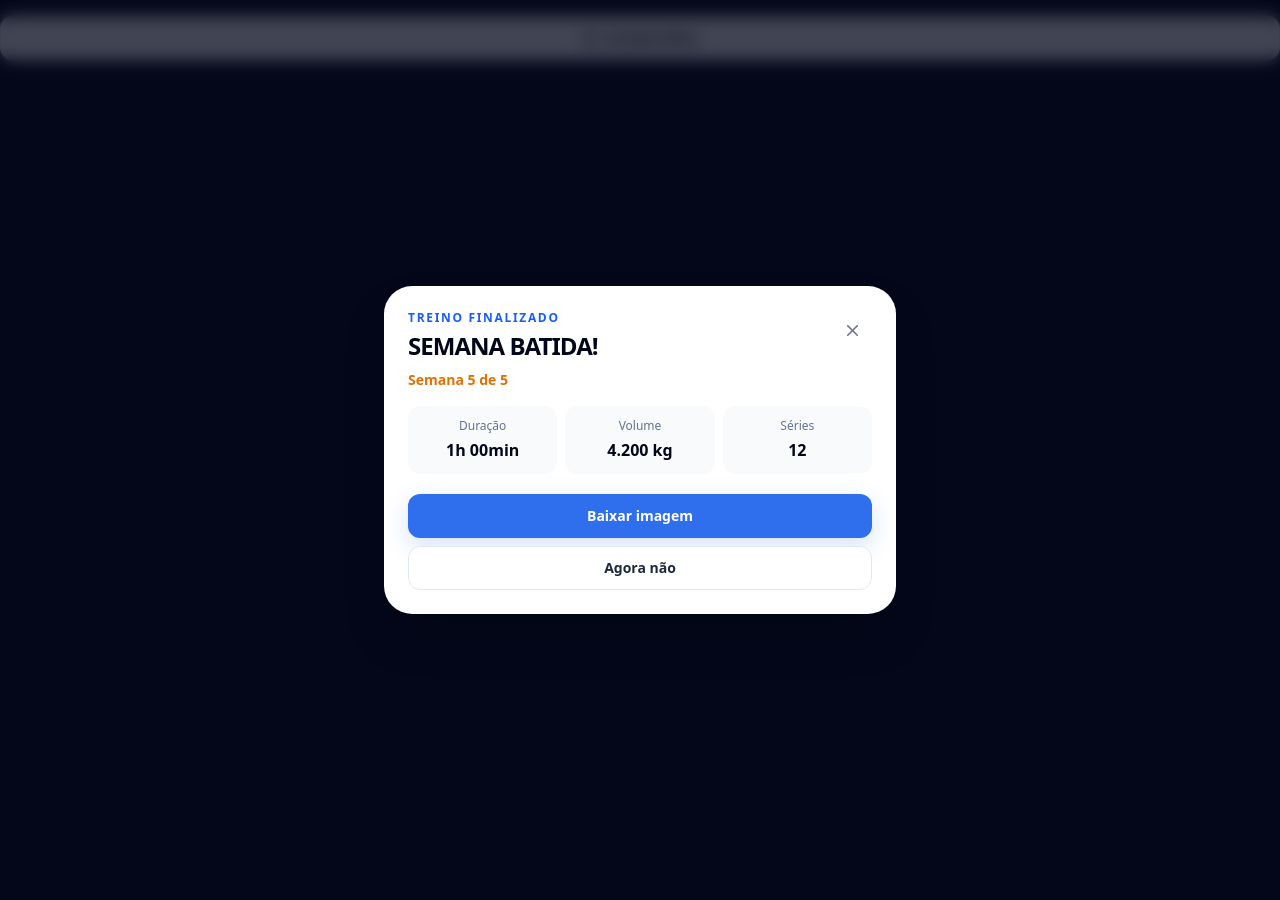
Scenario: WorkoutShare › abre o card sozinho quando há conquista, e "Agora não" fecha
Expected: the heading "SEMANA BATIDA!" is shown, [408,330,598,362]
Expected: the button "Baixar imagem" is shown, [408,494,872,538]
What coordinates should you click on to do the following:
click the button "Agora não"
I would click on:
 (640, 568)
Its box is [408,546,872,590].
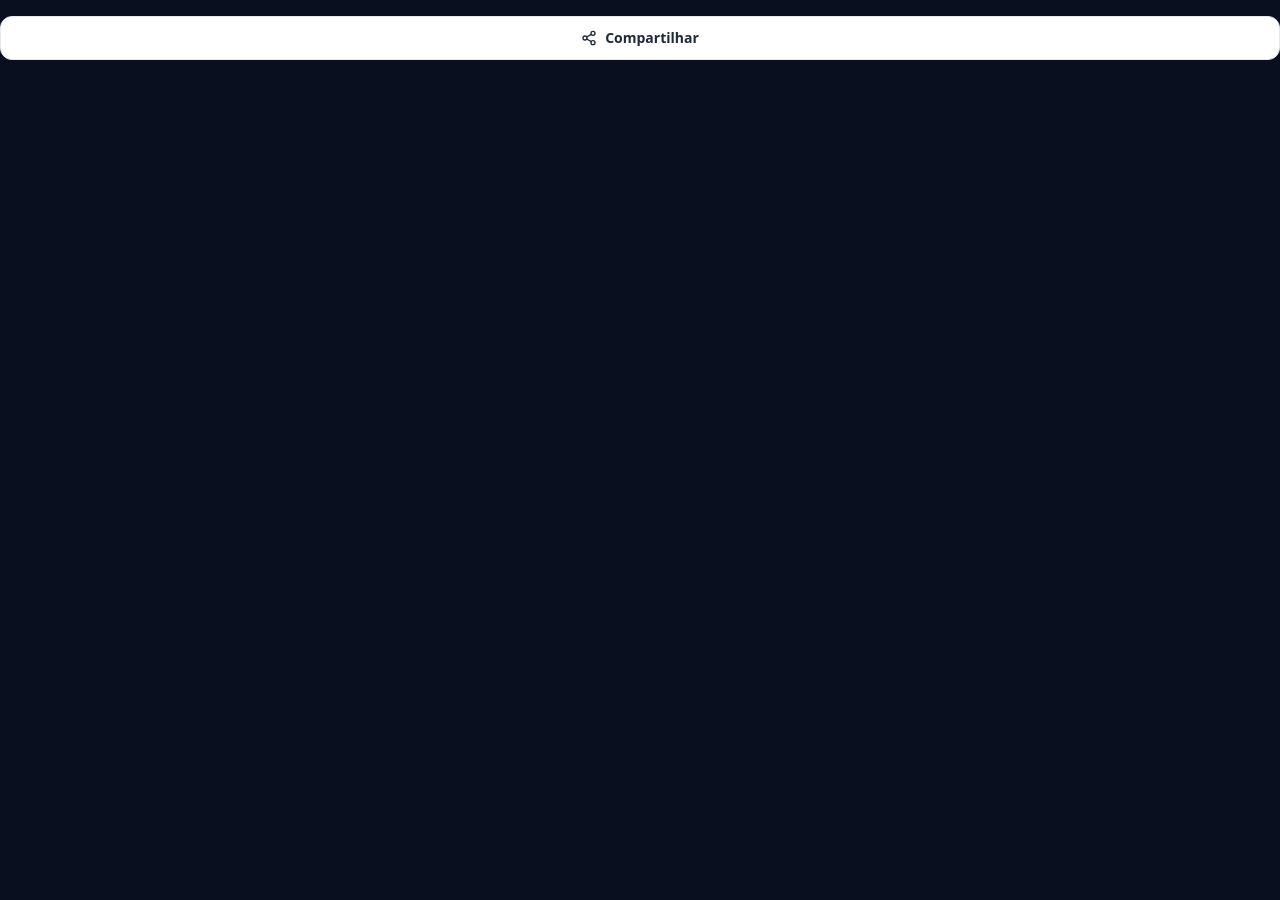
Result: the dialog is gone
